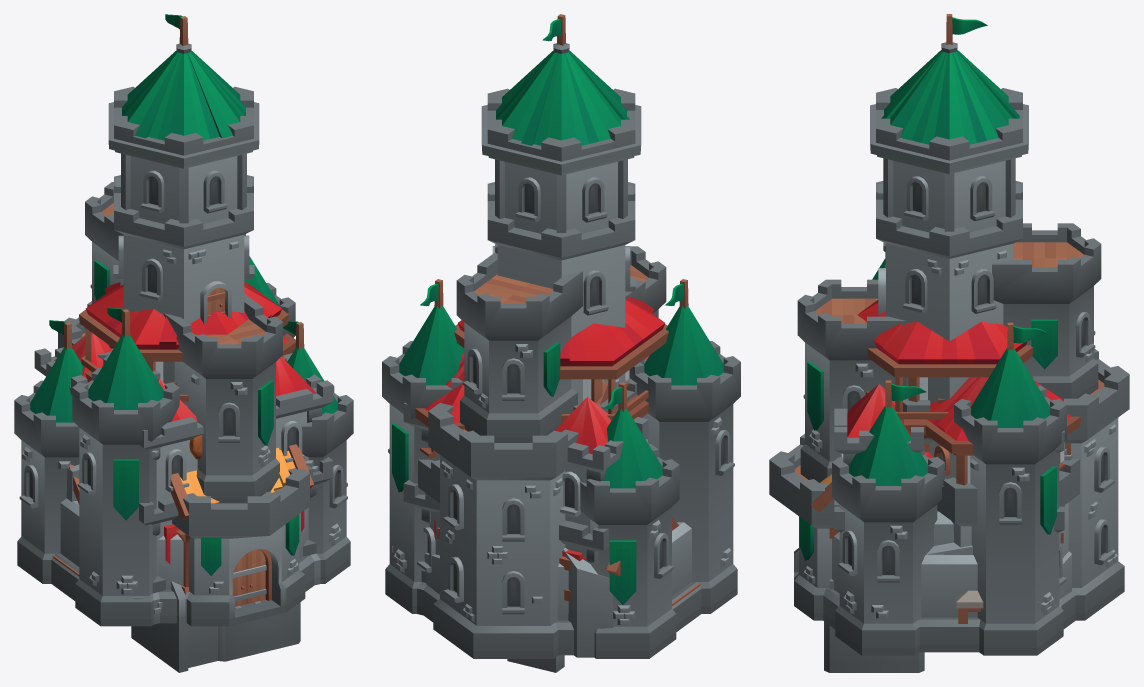
The model's file is hex.glb.
3 renders of one model, left to right at view 1: azimuth 30°, elevation 25°; view 2: azimuth 150°, elevation 25°; view 3: azimuth 270°, elevation 25°, orthographic. The views are drawn at different scales.
Visible parts, largest first — view 1: castle_green, barracks_red, watermill_yellow, building_tower_B_top_red; view 2: castle_green, barracks_red, building_tower_B_top_red, mine_green, archeryrange_red, watermill_yellow; view 3: castle_green, building_tower_B_top_red, archeryrange_red, barracks_red, watermill_yellow, mine_green, market_yellow.
Part boxes in pixels (x1,y1,x2,y2): castle_green: (14, 14, 353, 626); barracks_red: (34, 332, 333, 624); watermill_yellow: (131, 444, 313, 672); building_tower_B_top_red: (79, 281, 288, 408); castle_green: (382, 14, 740, 658); barracks_red: (403, 355, 649, 615); building_tower_B_top_red: (454, 296, 668, 421); mine_green: (424, 548, 613, 657); archeryrange_red: (415, 352, 678, 576); watermill_yellow: (507, 655, 564, 672); castle_green: (769, 14, 1129, 655); building_tower_B_top_red: (857, 300, 1033, 438); archeryrange_red: (924, 376, 1080, 586); barracks_red: (834, 384, 1064, 607); watermill_yellow: (811, 474, 924, 672); mine_green: (926, 511, 1071, 599); market_yellow: (956, 531, 1063, 623).
Size of the model in its own units: 1.98 by 4.33 by 2.26.
Materials: 1 (1 with a texture image).
